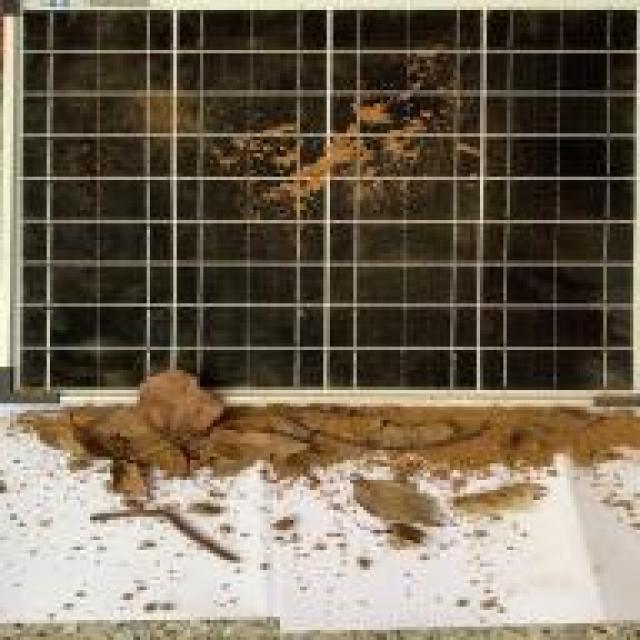dust-solar-panel: (0, 12, 639, 388)
